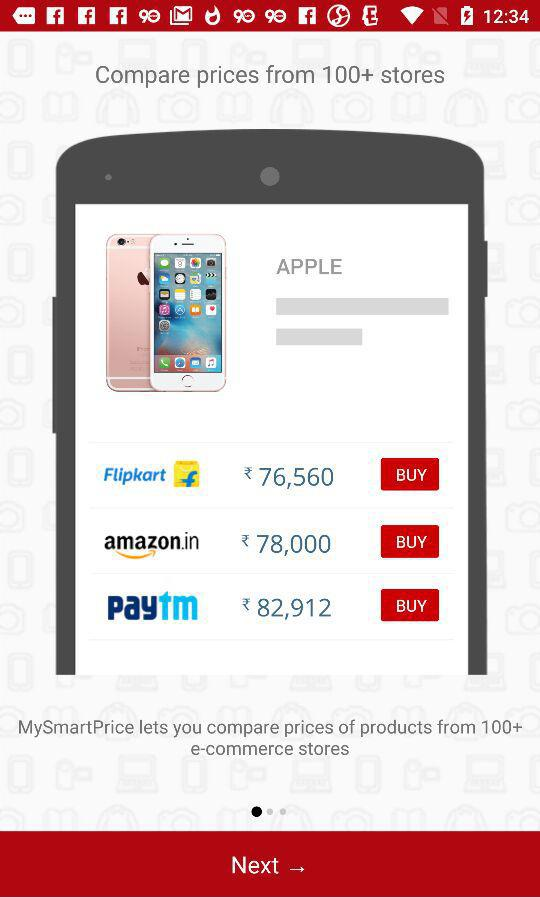Image: (53, 129, 489, 676)
PageIndicator: (251, 805, 288, 818)
Text: (18, 718, 523, 757), (96, 65, 445, 90)
TextButton: (1, 831, 540, 897)
UpperTaskBar: (1, 1, 540, 33)
